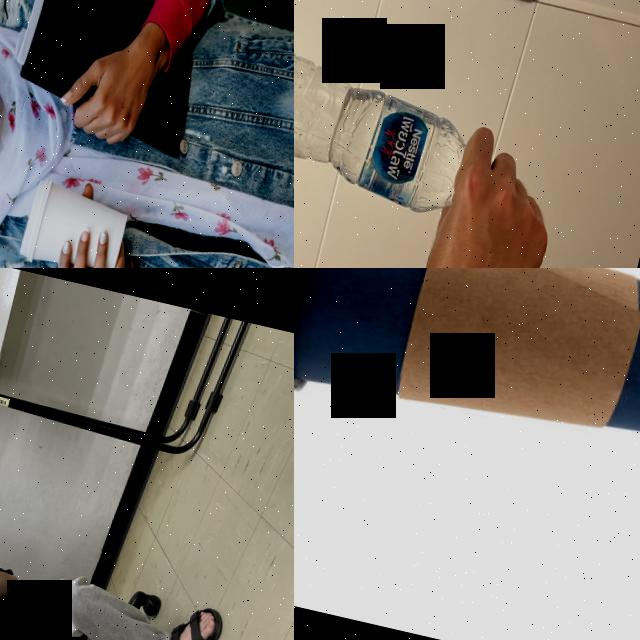bottle: (294, 32, 479, 218)
cup: (294, 268, 640, 494), (16, 173, 133, 268)
